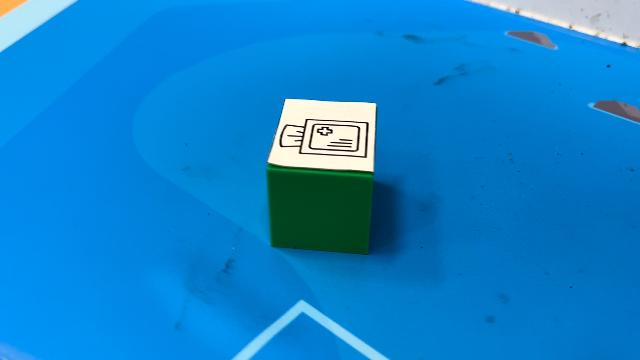napkin: (264, 96, 378, 256)
